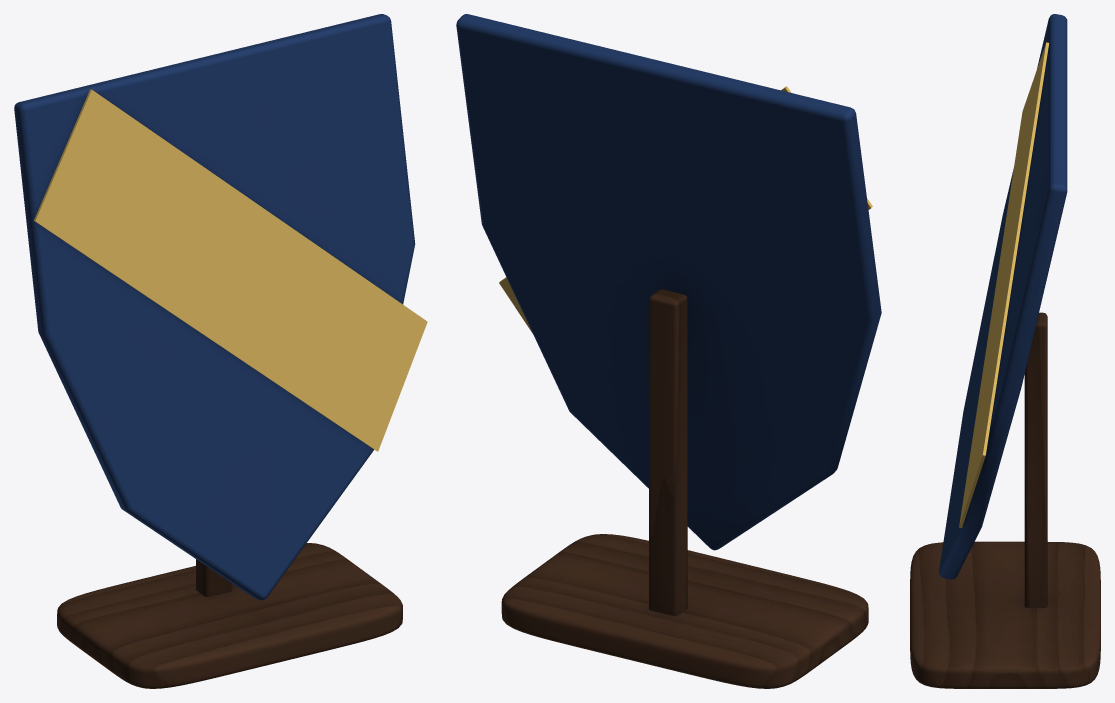
Rendered from heater-blue-gold.glb.
3 renders of one model, left to right at view 1: azimuth 30°, elevation 25°; view 2: azimuth 150°, elevation 25°; view 3: azimuth 270°, elevation 25°, orthographic. The views are drawn at different scales.
Parts seen in each view (by area): view 1: paint_primary_shield, heraldry_gold, wood_x, wood_z; view 2: paint_primary_shield, wood_x, wood_z; view 3: wood_x, paint_primary_shield, heraldry_gold, wood_z.
Part boxes in pixels (x1,y1,x2,y2): paint_primary_shield: (14, 14, 415, 600); heraldry_gold: (34, 89, 427, 451); wood_x: (57, 543, 402, 688); wood_z: (196, 559, 232, 596); paint_primary_shield: (456, 14, 881, 550); wood_x: (501, 534, 868, 688); wood_z: (649, 289, 687, 615); wood_x: (910, 541, 1100, 688); paint_primary_shield: (939, 14, 1067, 579); heraldry_gold: (959, 42, 1049, 528); wood_z: (1024, 312, 1047, 607).
Bounding box in the file's own units: 0.54 × 0.7686 × 0.25.
Materials: 4 (3 with a texture image).
